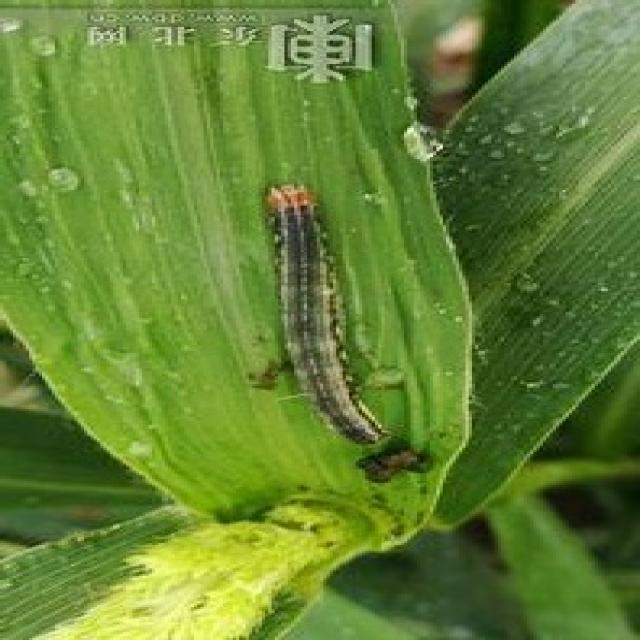army worm: (231, 172, 399, 447)
